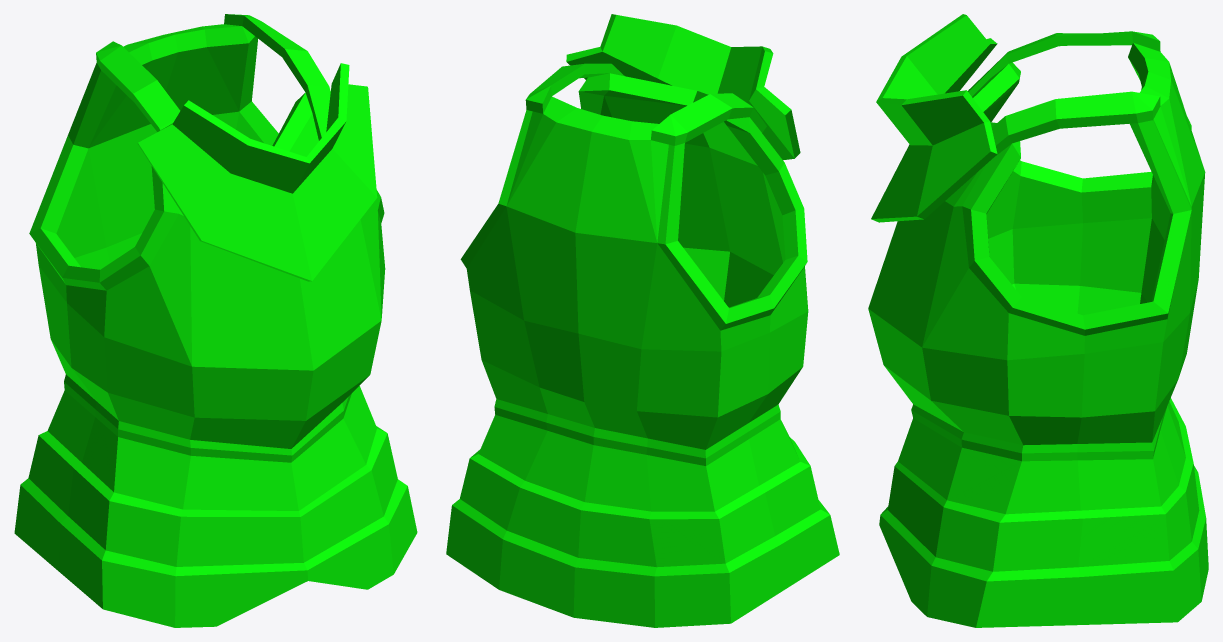
Rendered from SM_Armor_Torso_B_Hanging_Fantasy.fbx.
The picture shows the model from 3 angles, left to right: view 1: azimuth 30°, elevation 25°; view 2: azimuth 150°, elevation 25°; view 3: azimuth 270°, elevation 25°; orthographic projection. The views are drawn at different scales.
Parts seen in each view (by area): view 1: armor-torso-b-hanging-fantasy; view 2: armor-torso-b-hanging-fantasy; view 3: armor-torso-b-hanging-fantasy.
Boxes of the visible parts, x1,y1,x2,y2 form: armor-torso-b-hanging-fantasy: (14,14,417,627); armor-torso-b-hanging-fantasy: (446,14,839,627); armor-torso-b-hanging-fantasy: (868,14,1208,627).
Size of the model in its own units: 0.4039 by 0.6298 by 0.375.
